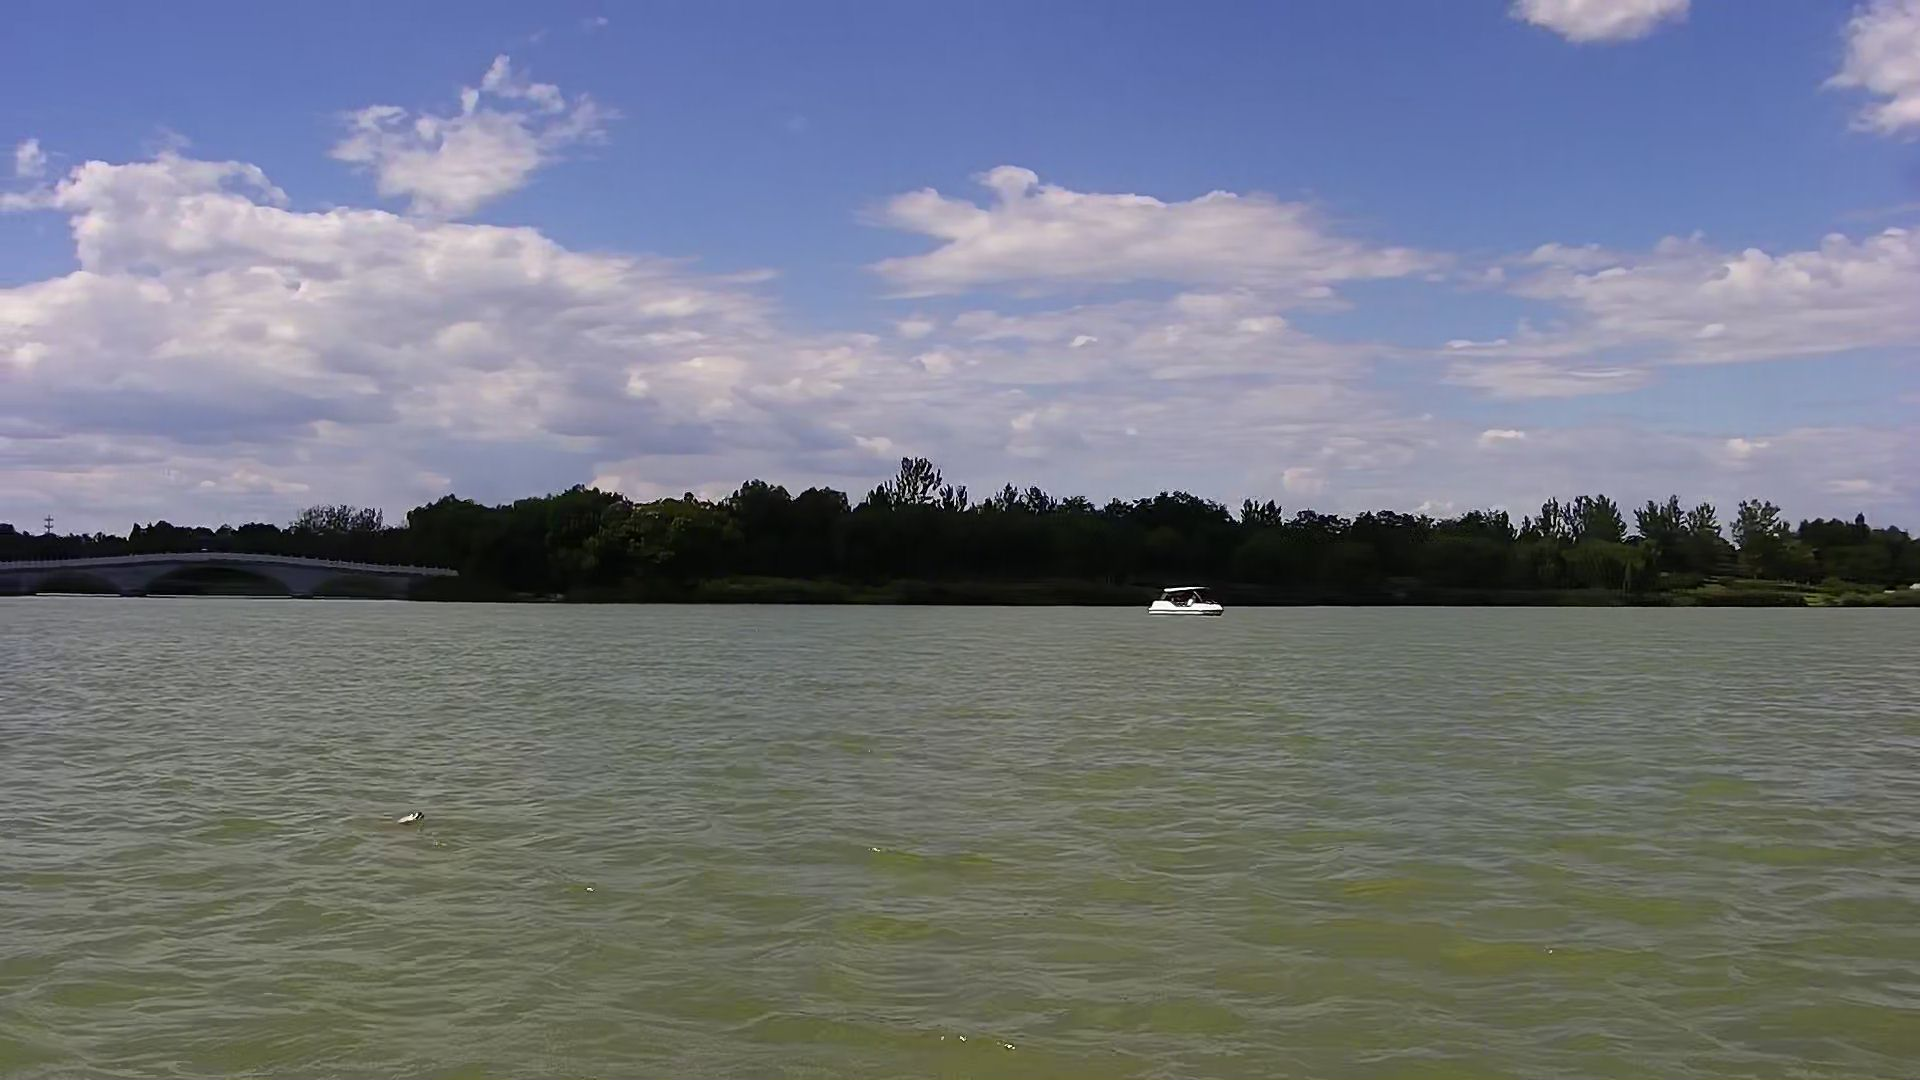boat: (1145, 580, 1225, 625)
bridge: (1, 547, 473, 608)
